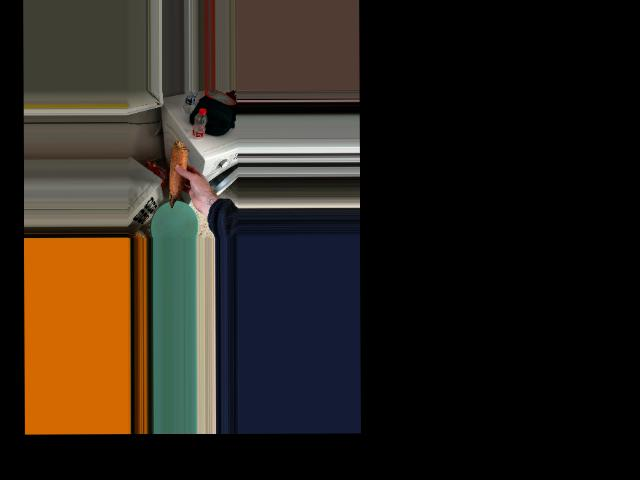sweet_potato: (163, 143, 188, 207)
